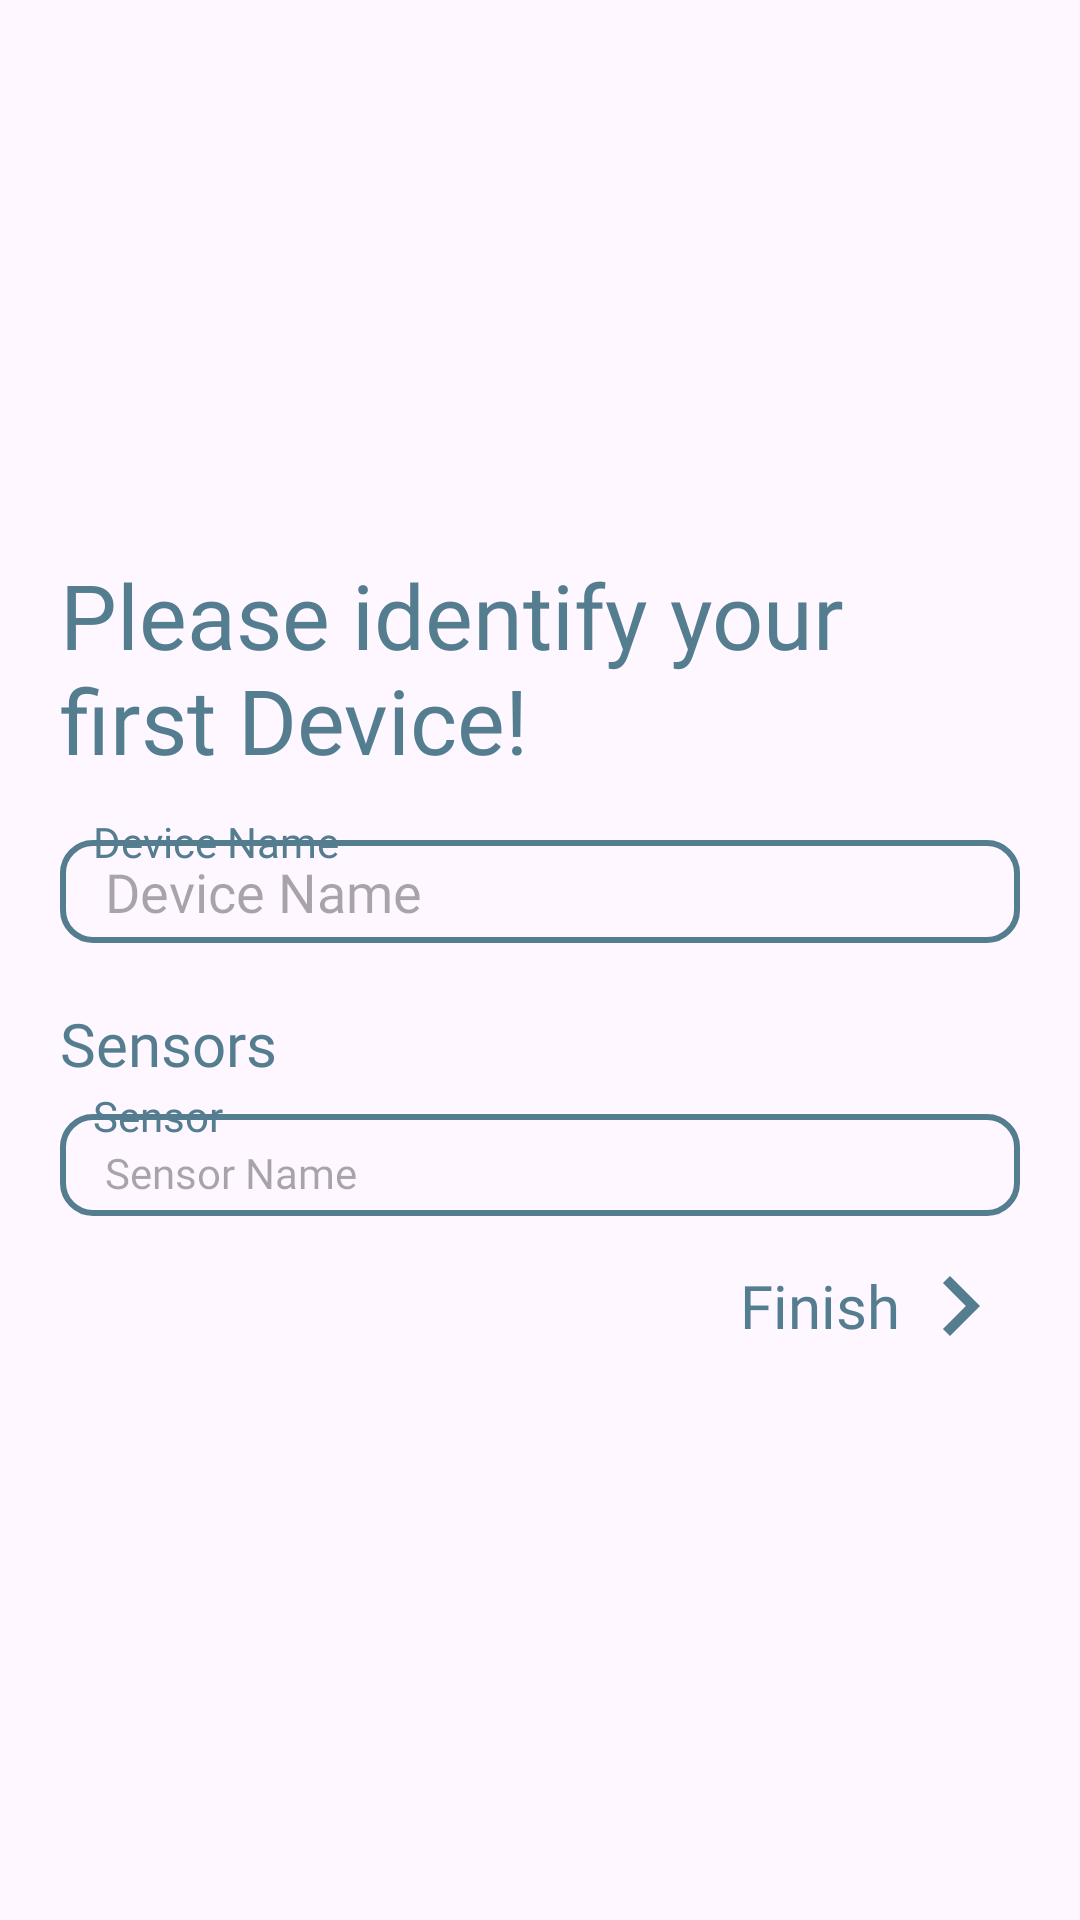

Screen size 1080w x 1920h. Icon name, then its box in pixels as (x1, y1, x2, y2):
arrow right: (943, 1276, 980, 1336)
